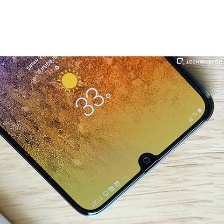phone: (0, 0, 220, 221)
